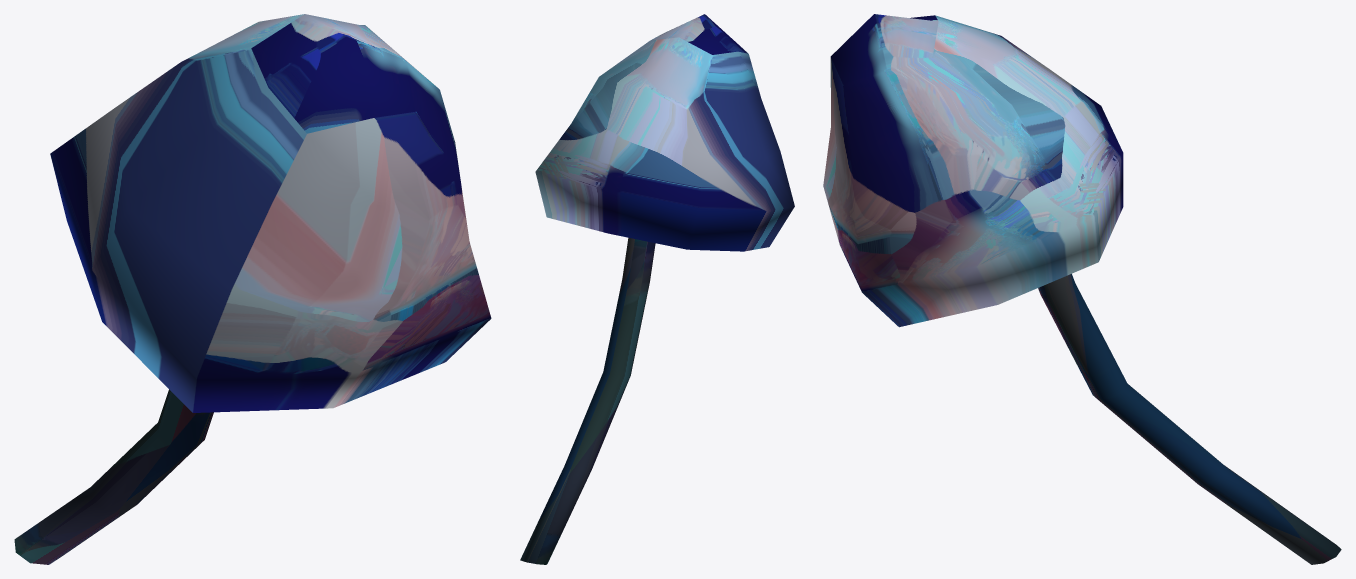
File: mushroom_VAR2_3.fbx
The picture shows the model from 3 angles, left to right: view 1: azimuth 30°, elevation 25°; view 2: azimuth 150°, elevation 25°; view 3: azimuth 270°, elevation 25°; orthographic projection. The views are drawn at different scales.
Parts seen in each view (by area): view 1: Cube.001, Cylinder; view 2: Cube.001, Cylinder; view 3: Cube.001, Cylinder.
Part boxes in pixels (x1,y1,x2,y2): Cube.001: [50, 14, 491, 412]; Cylinder: [14, 389, 213, 564]; Cube.001: [535, 14, 794, 251]; Cylinder: [520, 237, 655, 564]; Cube.001: [823, 14, 1123, 327]; Cylinder: [1038, 274, 1341, 564].
Bounding box in the file's own units: 306 × 611 × 523.
